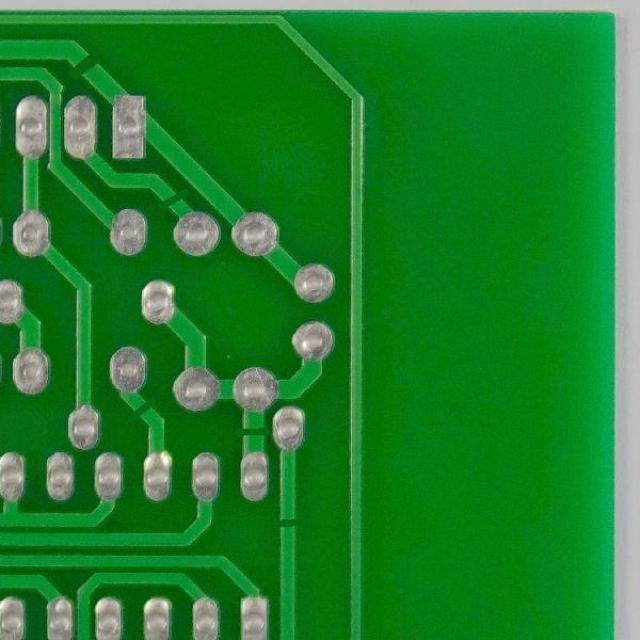Open_Circuit: (65, 45, 104, 84), (230, 419, 271, 446), (130, 392, 159, 426), (156, 184, 187, 214), (273, 510, 303, 539)
